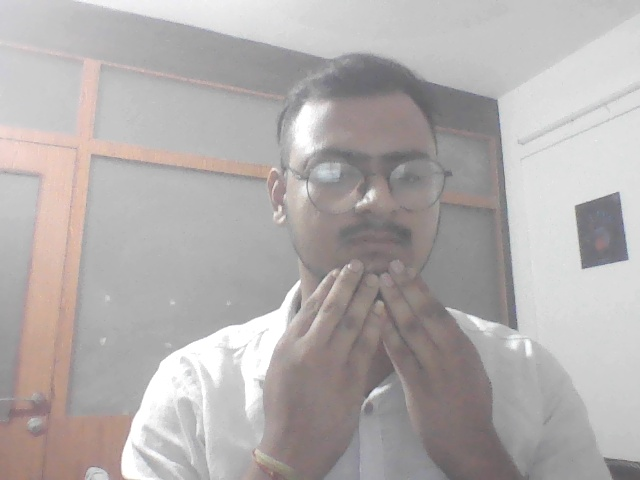ThankYou: (249, 255, 504, 480)
